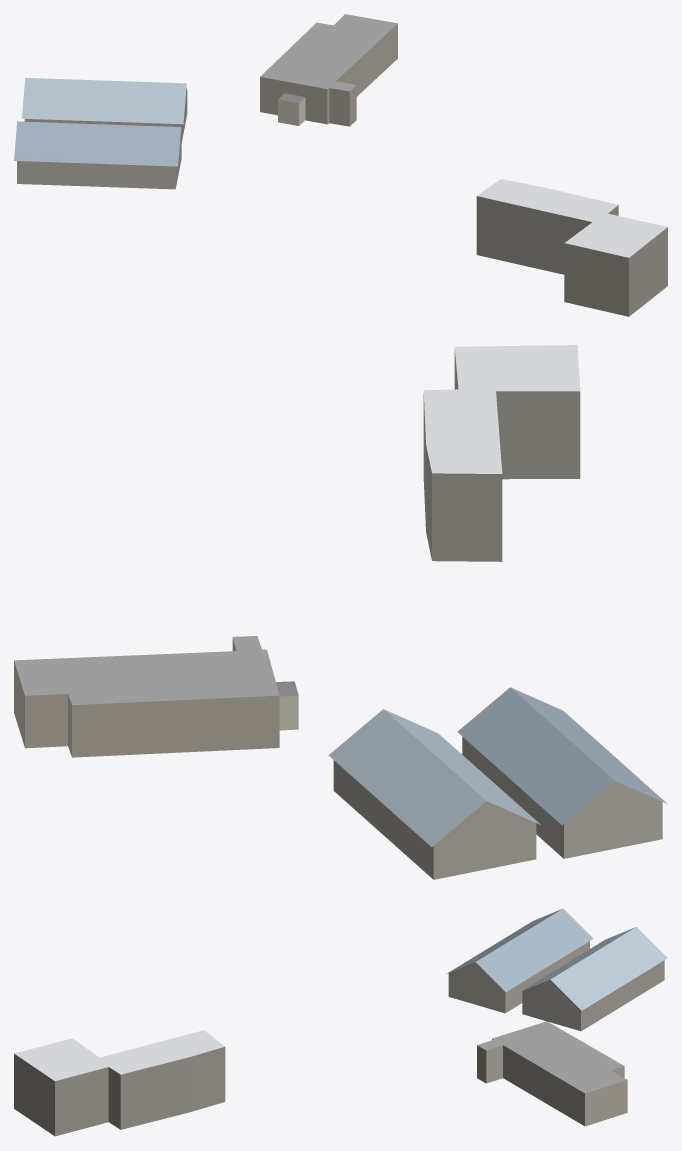
3 views of the same model, one above another, from view 1: azimuth 30°, elevation 25°; view 2: azimuth 150°, elevation 25°; view 3: azimuth 270°, elevation 25° (orthographic). The views are drawn at different scales.
Parts seen in each view (by area): view 1: tuile; view 2: tuile; view 3: tuile.
Part boxes in pixels (box(x1,y1,x2,y2)): tuile: box(14, 14, 667, 316); tuile: box(14, 345, 667, 879); tuile: box(14, 908, 667, 1136).
Size of the model in its own units: 62.98 by 9.05 by 92.52.
